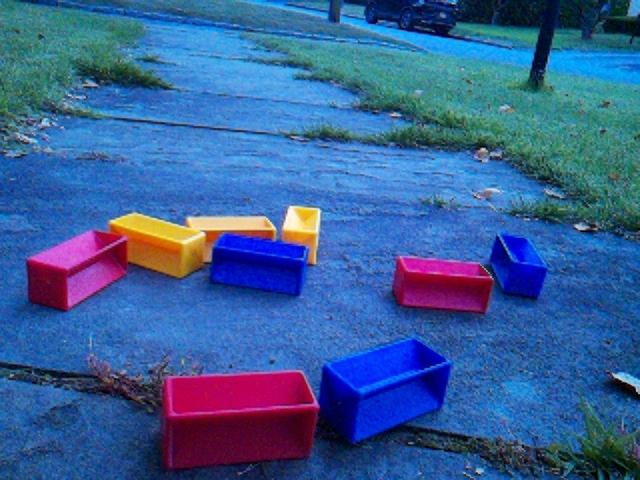blue: (318, 335, 453, 445), (209, 231, 310, 298), (489, 229, 549, 300)
red: (159, 368, 321, 471), (26, 228, 130, 312), (391, 253, 495, 315)
yellow: (108, 211, 207, 280), (186, 213, 277, 262), (281, 204, 323, 266)
